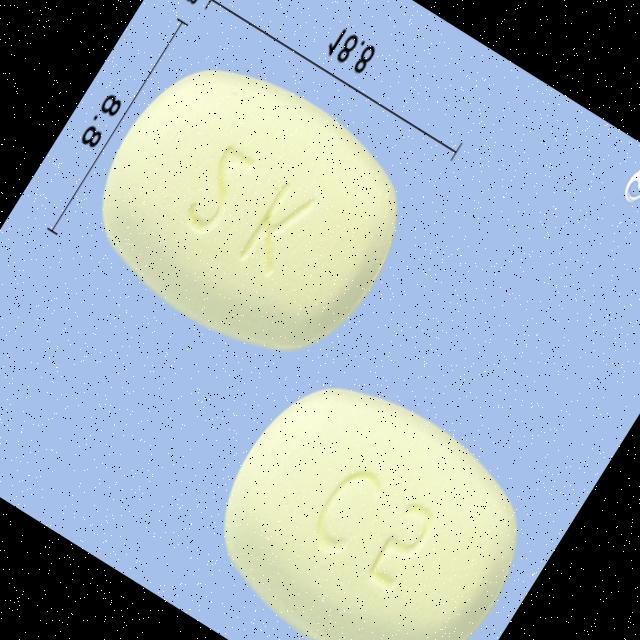Clithocin: (59, 25, 439, 393), (176, 346, 560, 640)
